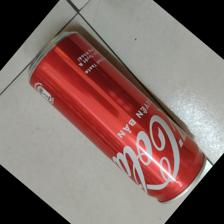Coca: (25, 31, 206, 204)
